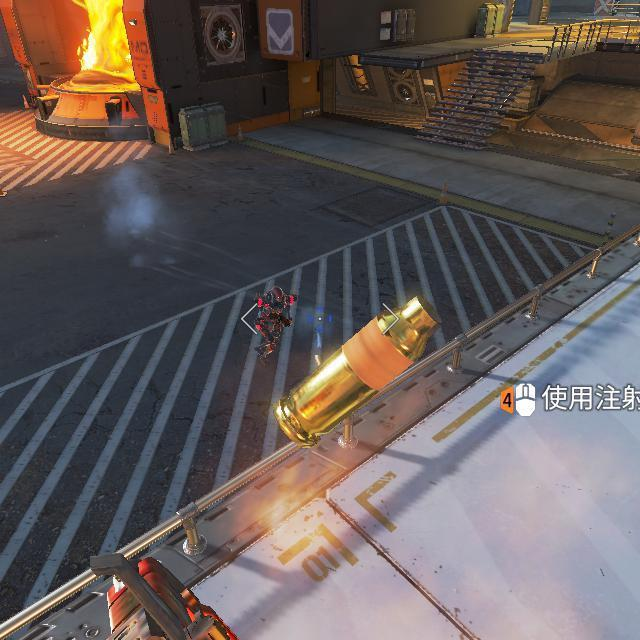avatar: (254, 286, 297, 367)
